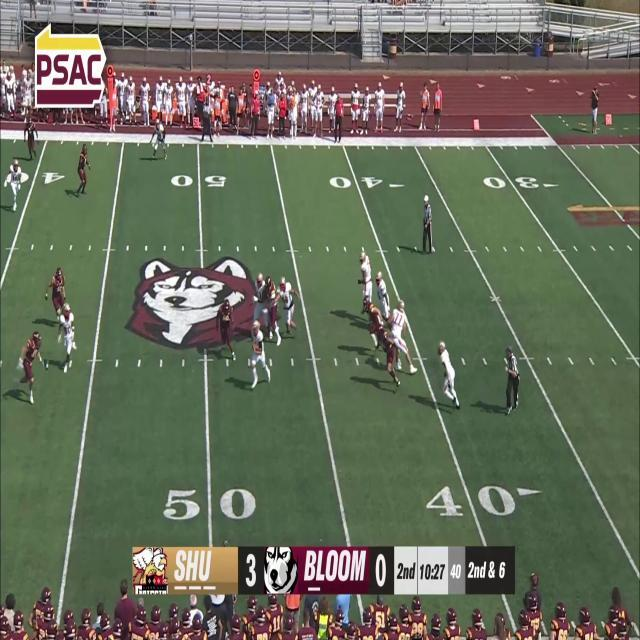football: (254, 343, 262, 353)
